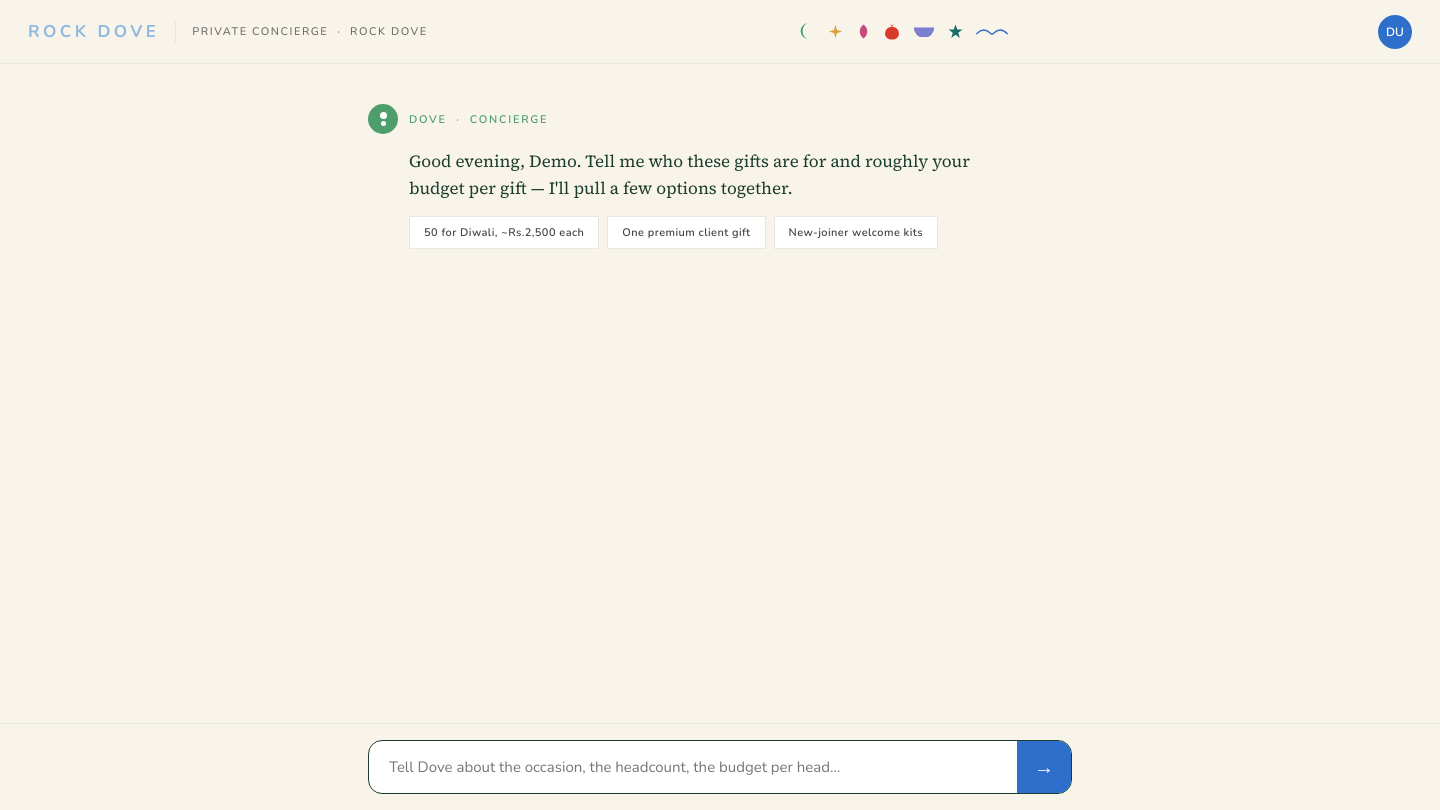
it: shortlist journey › save → header button appears; submit → rd_submissions insert with resolved items; summary renders
The image size is (1440, 810).
Expected: the text "Good" is shown, x1=409 y1=149 x2=974 y2=200
In the field named "Message Dove": (693, 767) x1=369 y1=741 x2=1017 y2=793, type "show me options for 150 people under 5000"
Then press Enter
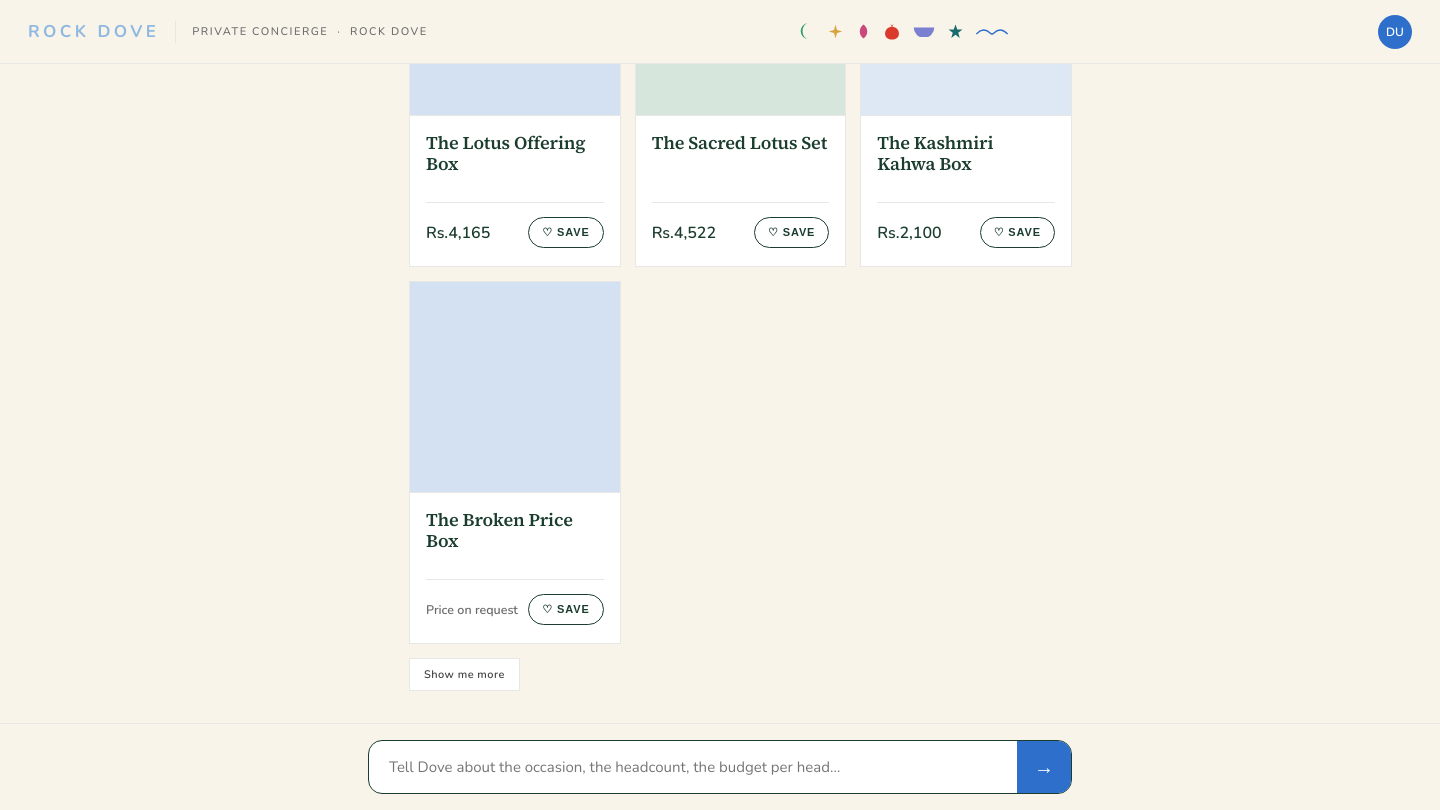
Now the text "The Lotus Offering Box" is shown, box x1=426 y1=132 x2=604 y2=174
Click the button "♡ Save" next to "Rs.4,165": click(566, 233) x1=528 y1=217 x2=604 y2=248
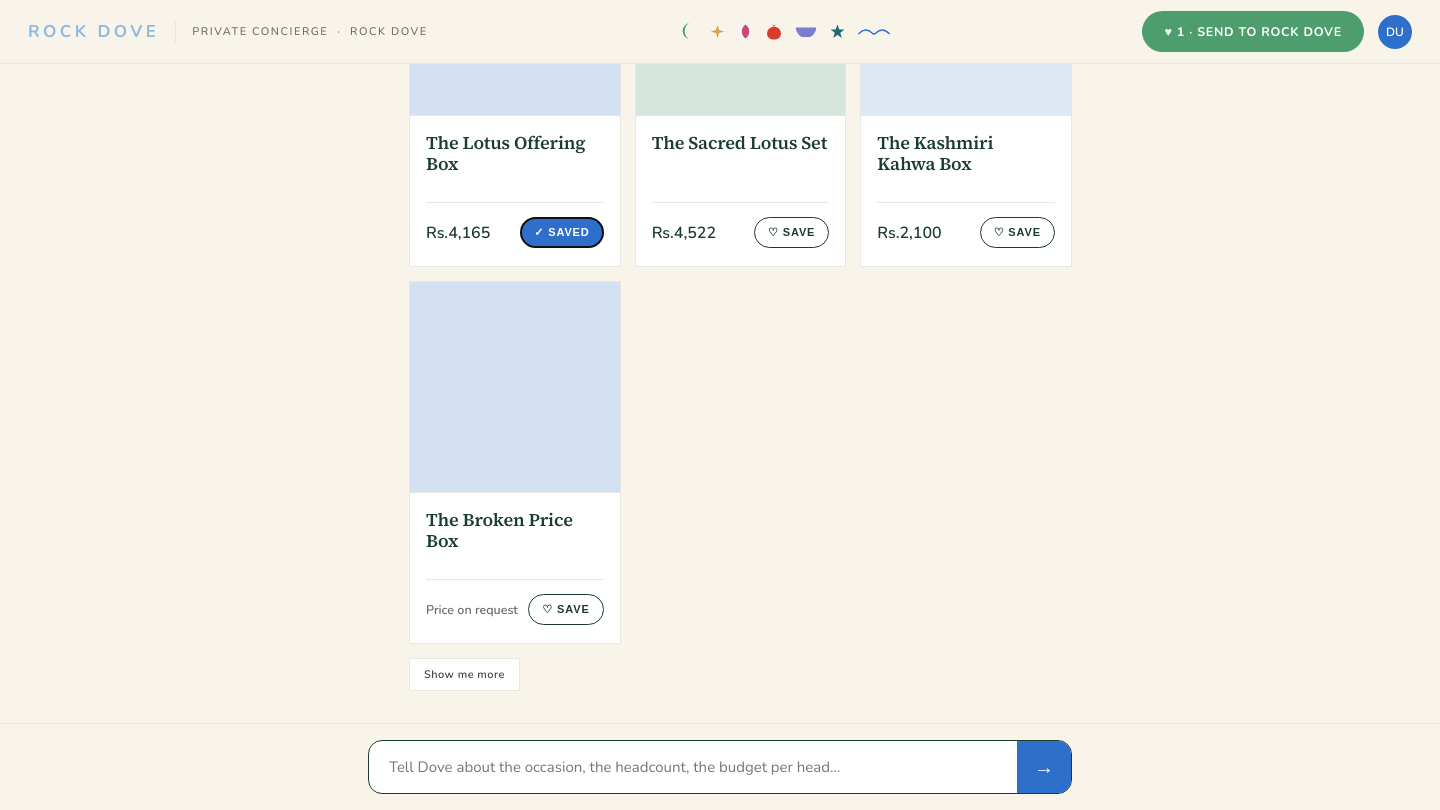
Click the button "♥ 1 · Send to Rock Dove": click(1253, 32) x1=1142 y1=11 x2=1364 y2=52
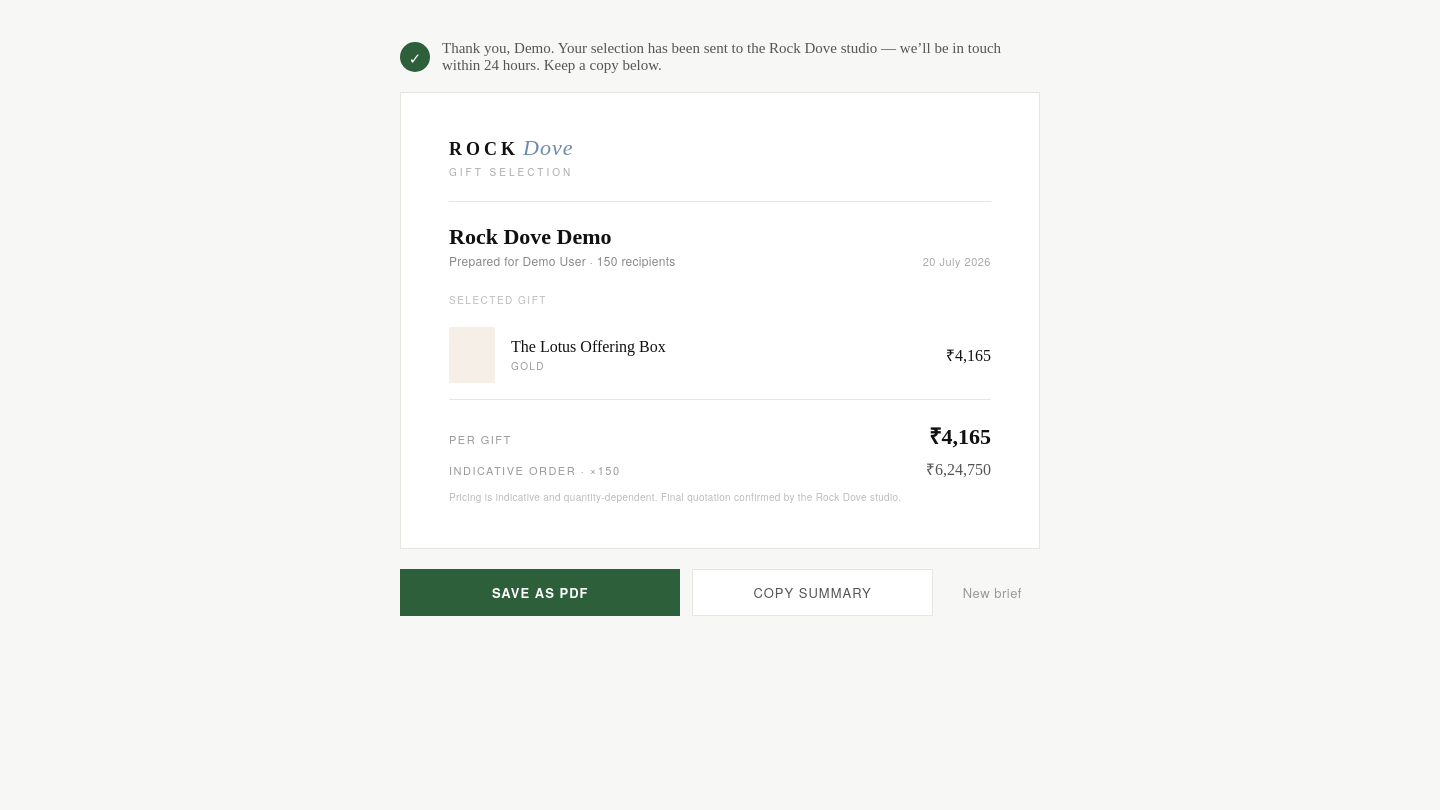
Now the text "The Lotus Offering Box" is shown, box x1=511 y1=338 x2=666 y2=354
Now the text "Gift Selection" is shown, box x1=449 y1=165 x2=573 y2=179
